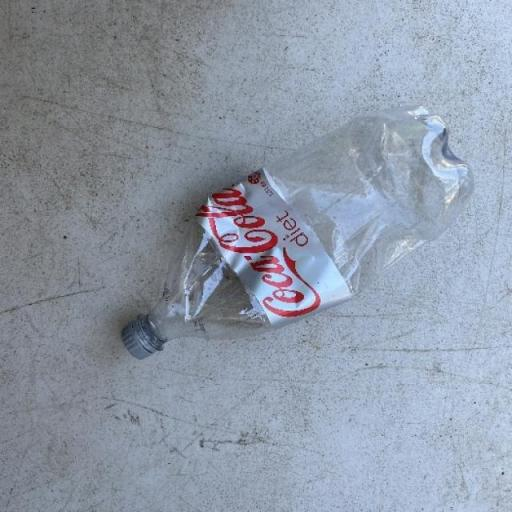plastic: (119, 102, 475, 361)
